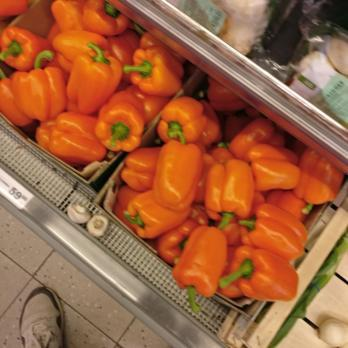Capsicum: (155, 104, 269, 281), (69, 29, 170, 172), (240, 150, 328, 298), (0, 0, 113, 112)
